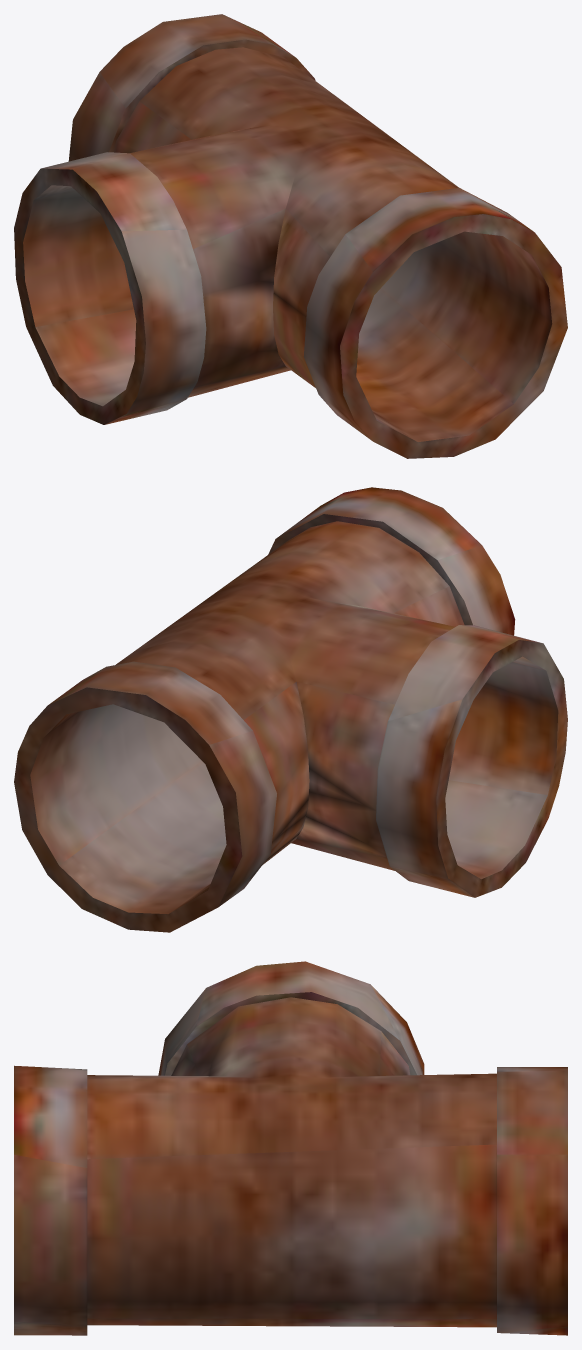
File: small_steel_pipe_08.glb
The picture shows the model from 3 angles, top to bottom: view 1: azimuth 30°, elevation 25°; view 2: azimuth 150°, elevation 25°; view 3: azimuth 270°, elevation 25°; orthographic projection.
Visible parts, largest first — view 1: small_steel_pipe_08; view 2: small_steel_pipe_08; view 3: small_steel_pipe_08.
Part boxes in pixels (left/top/right/bottom): small_steel_pipe_08: left=14, top=14, right=567, bottom=458; small_steel_pipe_08: left=14, top=487, right=567, bottom=932; small_steel_pipe_08: left=14, top=961, right=567, bottom=1335.
Size of what is drawn, in the model's own units: 0.033 by 0.0215 by 0.0444.
Materials: 1 (1 with a texture image).
